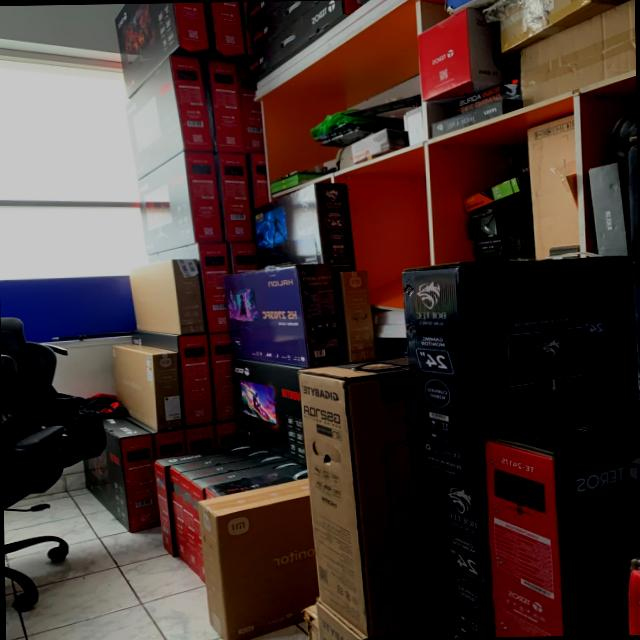caja-monitor: (403, 256, 636, 483), (298, 358, 442, 637), (484, 401, 640, 637), (199, 478, 318, 640), (188, 460, 304, 574), (174, 452, 288, 565), (225, 264, 343, 367), (168, 447, 273, 561), (127, 56, 212, 180), (246, 0, 363, 85), (115, 2, 211, 97), (252, 183, 355, 270), (83, 416, 160, 532), (140, 151, 221, 253), (232, 357, 306, 466), (133, 331, 213, 427), (148, 242, 230, 331), (112, 343, 182, 431), (130, 259, 206, 335), (246, 1, 317, 55), (335, 270, 376, 362), (206, 61, 245, 153), (208, 467, 308, 500), (219, 153, 253, 242), (207, 331, 236, 422), (239, 65, 264, 151), (208, 2, 244, 57), (152, 428, 187, 460), (249, 154, 268, 209), (188, 423, 216, 454), (215, 419, 239, 448)
